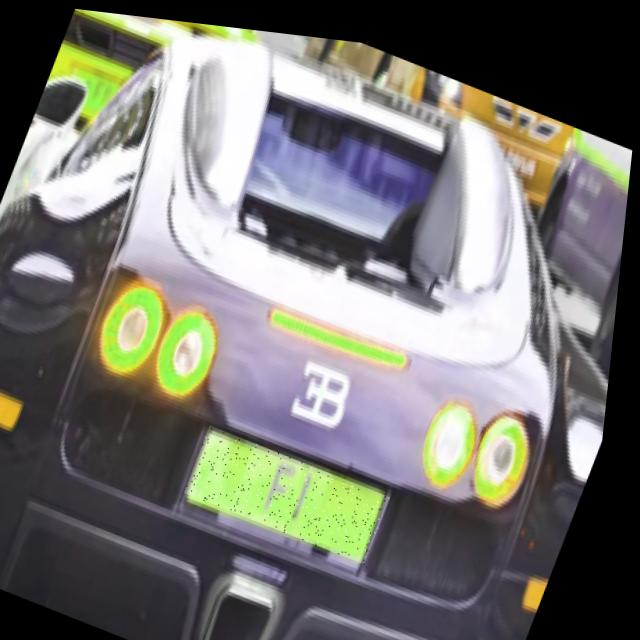license_plate: (190, 417, 404, 555)
